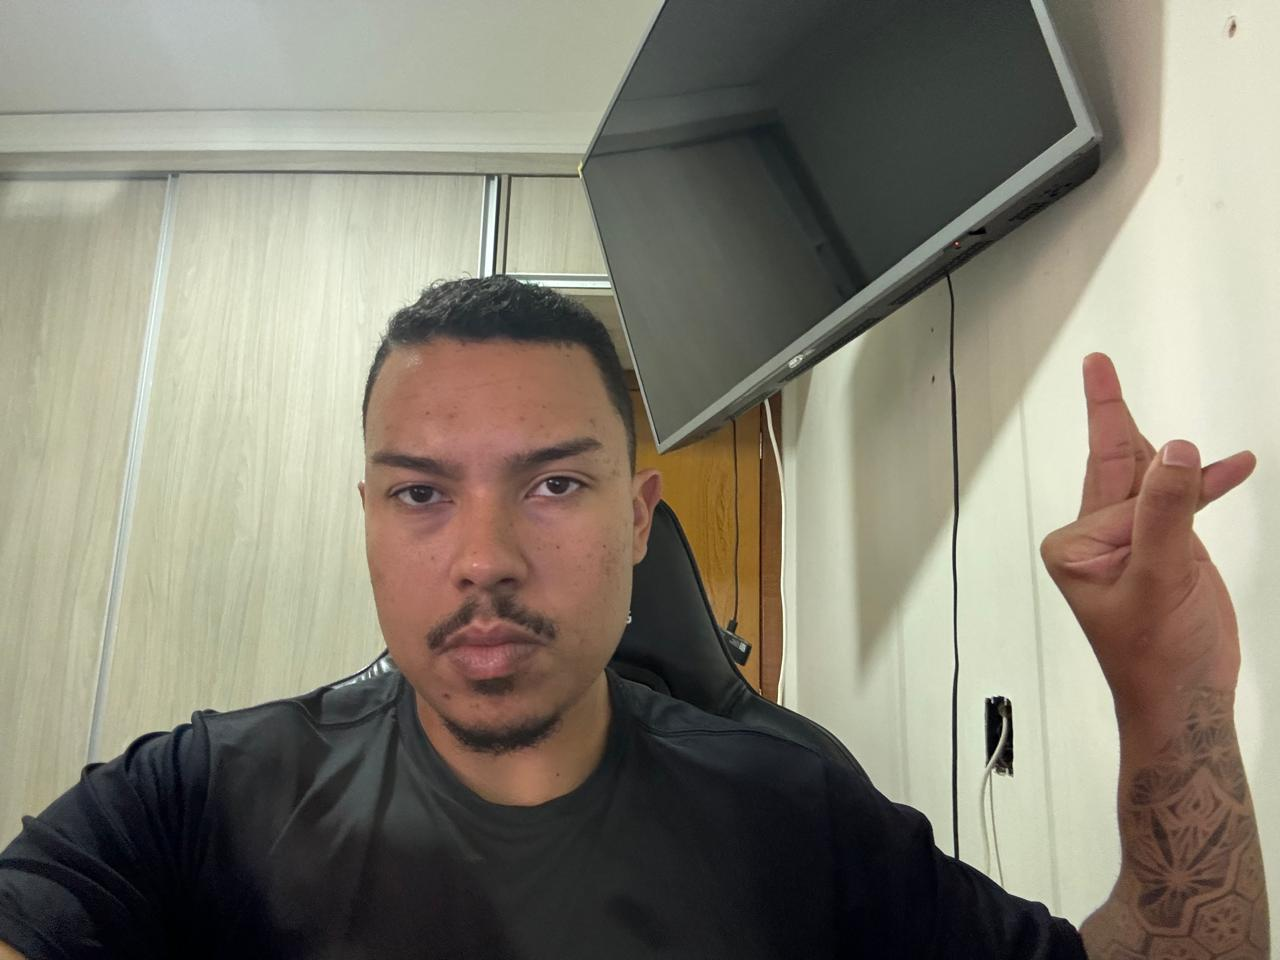t: (1037, 342, 1265, 721)
